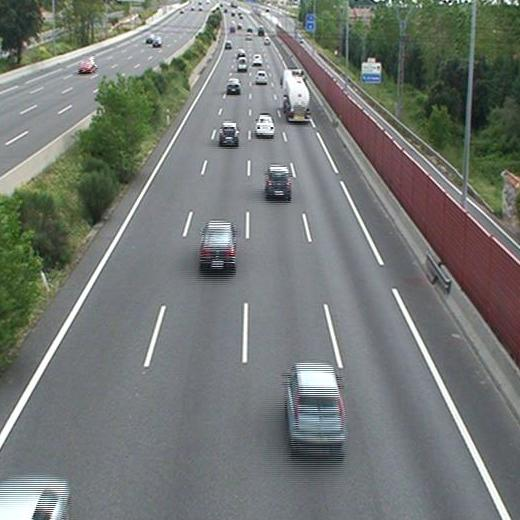car: (287, 363, 345, 447), (201, 221, 235, 269), (266, 166, 290, 195), (220, 123, 240, 142), (255, 116, 274, 135), (228, 79, 241, 92), (255, 71, 268, 82), (251, 53, 261, 64), (224, 41, 232, 51)
tank-truck: (281, 69, 310, 121)
van: (237, 57, 247, 70)
